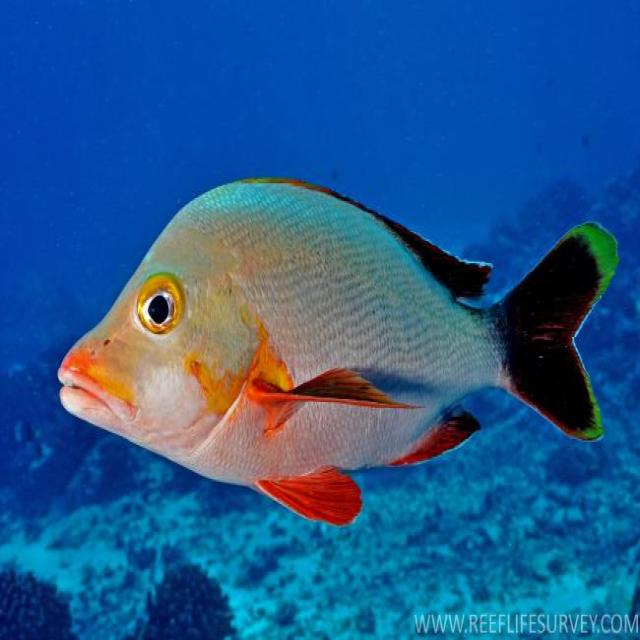ikan: (56, 173, 619, 526)
